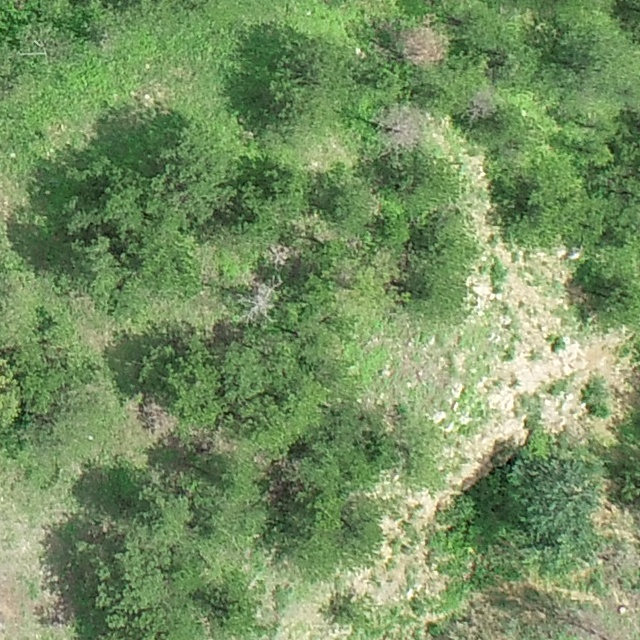unhealthy: (400, 25, 448, 67), (381, 106, 426, 149), (135, 396, 176, 435), (249, 279, 275, 316), (467, 87, 496, 120), (266, 242, 293, 268)
